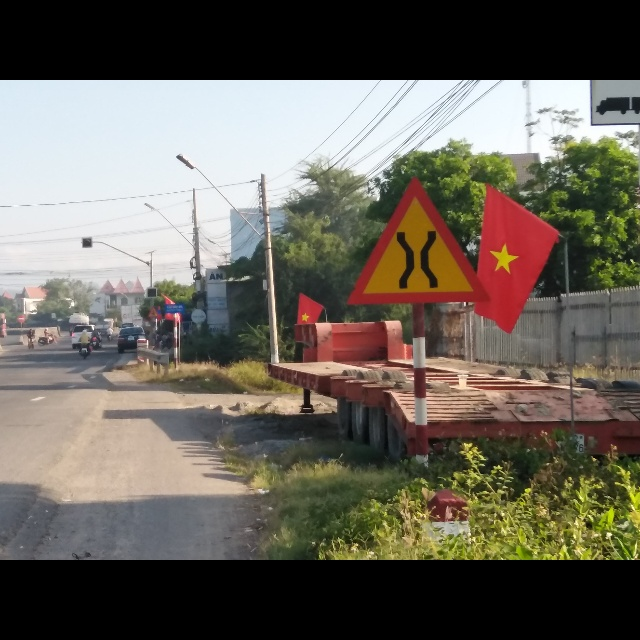Cầu hẹp: (346, 168, 490, 307)
